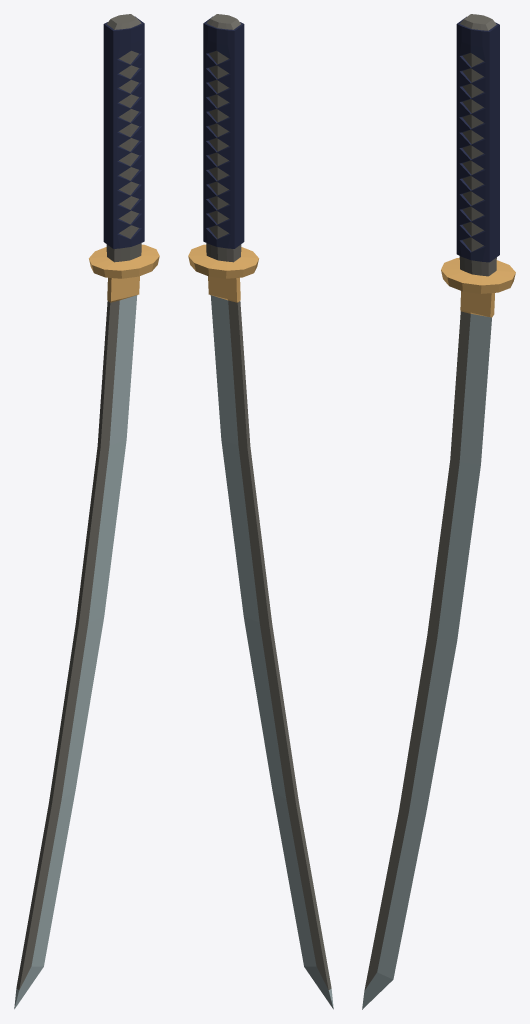
File: katana_blade.glb
3 renders of one model, left to right at view 1: azimuth 30°, elevation 25°; view 2: azimuth 150°, elevation 25°; view 3: azimuth 330°, elevation 25°, orthographic. The views are drawn at different scales.
Visible parts, largest first — view 1: katana.007, katana.006, katana.005, katana.008; view 2: katana.007, katana.006, katana.005, katana.008; view 3: katana.006, katana.007, katana.005, katana.008.
Boxes of the visible parts, <box> form: katana.007: <box>16,14,141,989</box>; katana.006: <box>14,295,137,1009</box>; katana.005: <box>103,16,144,248</box>; katana.008: <box>89,244,159,302</box>; katana.007: <box>206,14,331,989</box>; katana.006: <box>210,295,333,1009</box>; katana.005: <box>203,16,244,248</box>; katana.008: <box>188,244,258,302</box>; katana.006: <box>362,314,491,1009</box>; katana.007: <box>364,14,496,990</box>; katana.005: <box>456,16,499,262</box>; katana.008: <box>441,257,515,317</box>.
Size of the model in its own units: 0.1411 by 0.913 by 0.0526.
